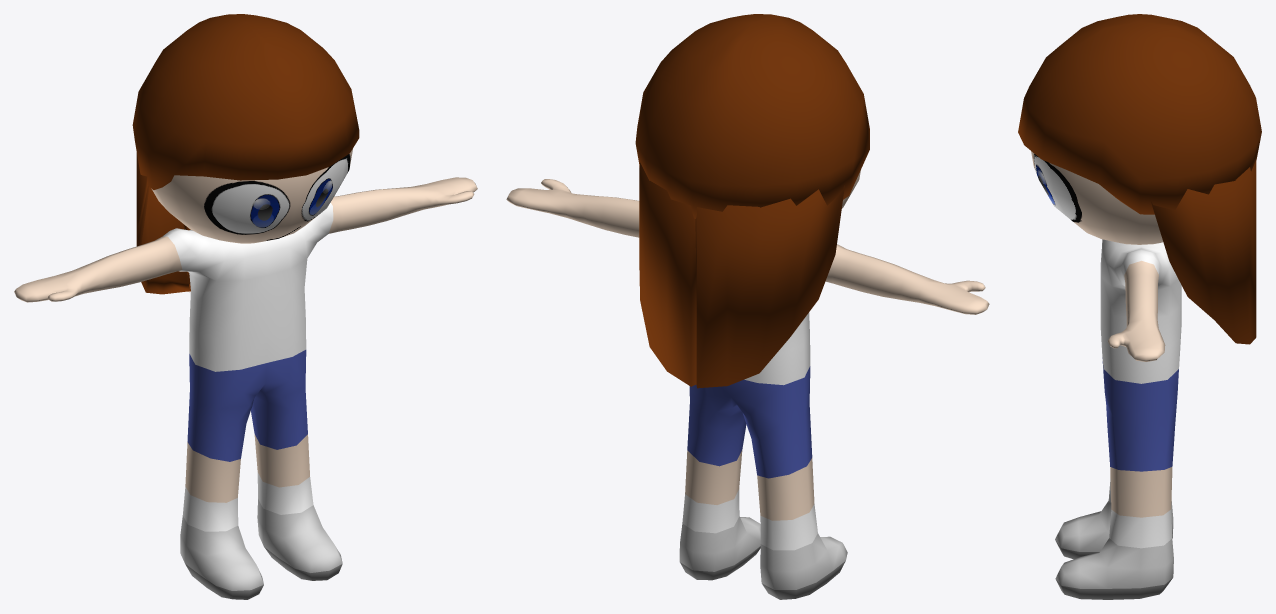
The picture shows the model from 3 angles, left to right: view 1: azimuth 30°, elevation 25°; view 2: azimuth 150°, elevation 25°; view 3: azimuth 270°, elevation 25°; orthographic projection. The views are drawn at different scales.
Visible parts, largest first — view 1: BaseCharacter, Hair; view 2: Hair, BaseCharacter; view 3: Hair, BaseCharacter.
Part boxes in pixels (x1=…): BaseCharacter: x1=14, y1=149, x2=477, y2=599; Hair: x1=132, y1=14, x2=359, y2=294; Hair: x1=635, y1=14, x2=869, y2=388; BaseCharacter: x1=506, y1=170, x2=989, y2=599; Hair: x1=1018, y1=14, x2=1261, y2=344; BaseCharacter: x1=1031, y1=151, x2=1181, y2=599.
Bounding box in the file's own units: 0.6906 × 0.7821 × 0.3118.
7 materials, 1 textured.
